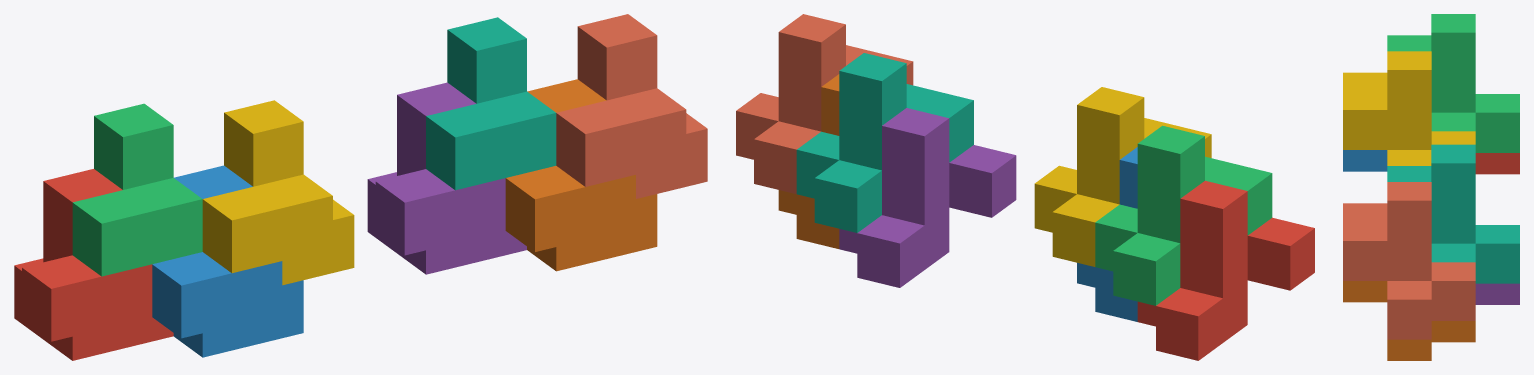
File: tiling.obj
3 views of the same model, side by side, from view 1: azimuth 30°, elevation 25°; view 2: azimuth 150°, elevation 25°; view 3: azimuth 270°, elevation 25° (orthographic). The views are drawn at different scales.
Parts seen in each view (by area): view 1: copy_1_domain_4, copy_1_domain_8, copy_1_domain_3, copy_1_domain_7, copy_1_domain_1, copy_1_domain_5, copy_1_domain_6, copy_1_domain_2; view 2: copy_1_domain_5, copy_1_domain_1, copy_1_domain_3, copy_1_domain_7, copy_1_domain_8, copy_1_domain_4, copy_1_domain_6, copy_1_domain_2; view 3: copy_1_domain_8, copy_1_domain_4, copy_1_domain_7, copy_1_domain_3, copy_1_domain_6, copy_1_domain_2, copy_1_domain_1, copy_1_domain_5.
Boxes of the visible parts, bbox=[...] form: copy_1_domain_4: bbox=[202, 100, 354, 285]; copy_1_domain_8: bbox=[556, 14, 707, 198]; copy_1_domain_3: bbox=[72, 103, 202, 276]; copy_1_domain_7: bbox=[426, 17, 556, 190]; copy_1_domain_1: bbox=[14, 169, 173, 360]; copy_1_domain_5: bbox=[367, 82, 526, 274]; copy_1_domain_6: bbox=[505, 79, 657, 271]; copy_1_domain_2: bbox=[152, 165, 303, 357]; copy_1_domain_5: bbox=[839, 108, 1016, 287]; copy_1_domain_1: bbox=[1137, 180, 1314, 360]; copy_1_domain_3: bbox=[1095, 125, 1272, 305]; copy_1_domain_7: bbox=[796, 53, 973, 232]; copy_1_domain_8: bbox=[736, 14, 913, 194]; copy_1_domain_4: bbox=[1034, 87, 1211, 266]; copy_1_domain_6: bbox=[778, 74, 839, 248]; copy_1_domain_2: bbox=[1077, 147, 1137, 321]; copy_1_domain_8: bbox=[1343, 182, 1475, 339]; copy_1_domain_4: bbox=[1343, 51, 1475, 165]; copy_1_domain_7: bbox=[1387, 144, 1519, 283]; copy_1_domain_3: bbox=[1387, 14, 1519, 152]; copy_1_domain_6: bbox=[1343, 281, 1475, 360]; copy_1_domain_2: bbox=[1343, 150, 1387, 171]; copy_1_domain_1: bbox=[1475, 153, 1519, 174]; copy_1_domain_5: bbox=[1475, 283, 1519, 304].
Bounding box in the file's own units: 13 × 4 × 4.
